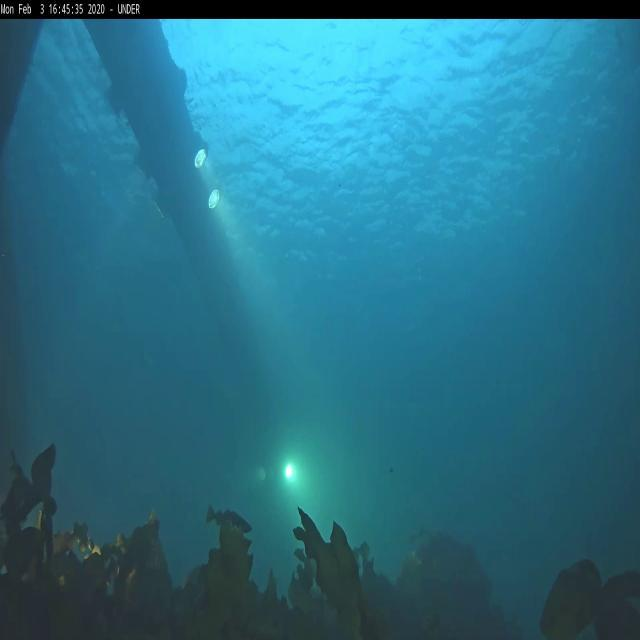fish: (205, 502, 252, 534)
